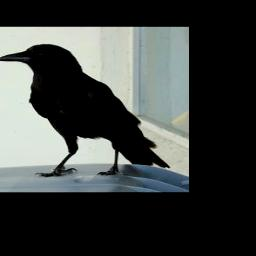Crow: (0, 43, 169, 179)
